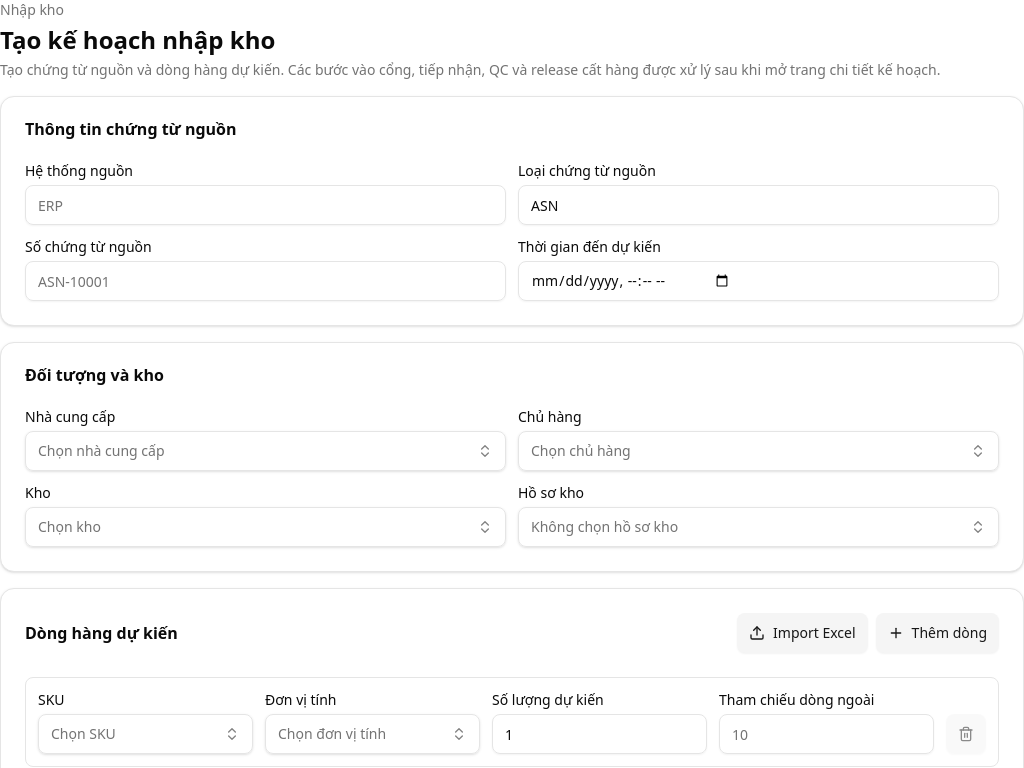
Test: InboundPlanCreatePage Excel import (IFB-03) › keeps the upload disabled until a warehouse and owner scope is chosen
The width and height of the screenshot is (1024, 768).
Click the button "Import Excel" at (802,633), box [737,613,868,653]
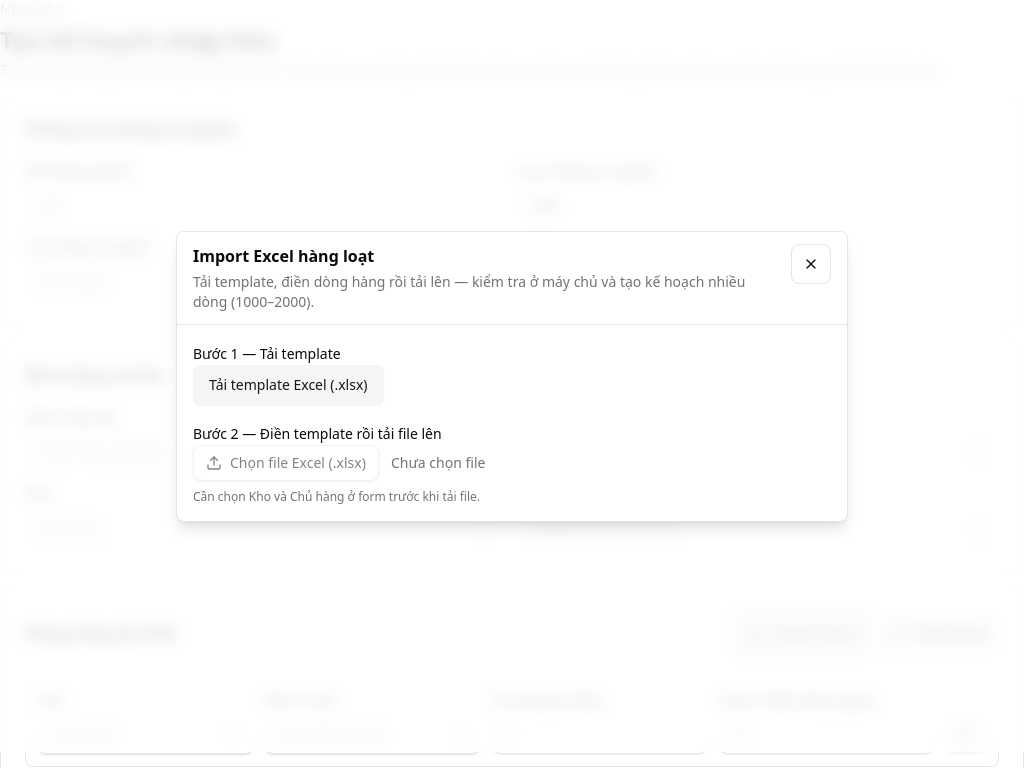
Expected: the file field with id "inbound-excel-import" is disabled, [193,444,379,480]
